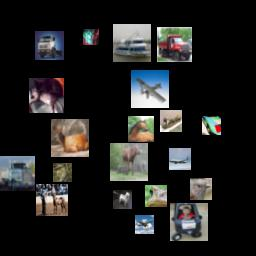airplane: (131, 70, 169, 108), (169, 148, 191, 170), (135, 215, 154, 234)
automobile: (202, 116, 221, 135)
bird: (190, 178, 212, 200)
cat: (29, 78, 64, 113), (83, 29, 99, 45)
deer: (110, 143, 148, 181), (51, 119, 89, 157)
dog: (113, 190, 132, 209)
frog: (145, 185, 167, 207), (53, 163, 72, 182)
ship: (113, 24, 151, 62), (160, 110, 182, 132)
truck: (170, 203, 208, 241), (0, 156, 35, 191), (157, 27, 192, 62), (35, 31, 64, 60)
